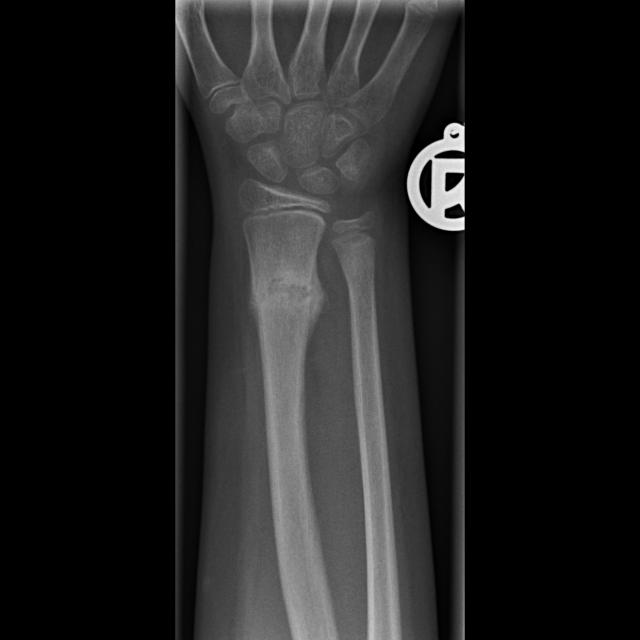radius fracture: (232, 245, 338, 366)
